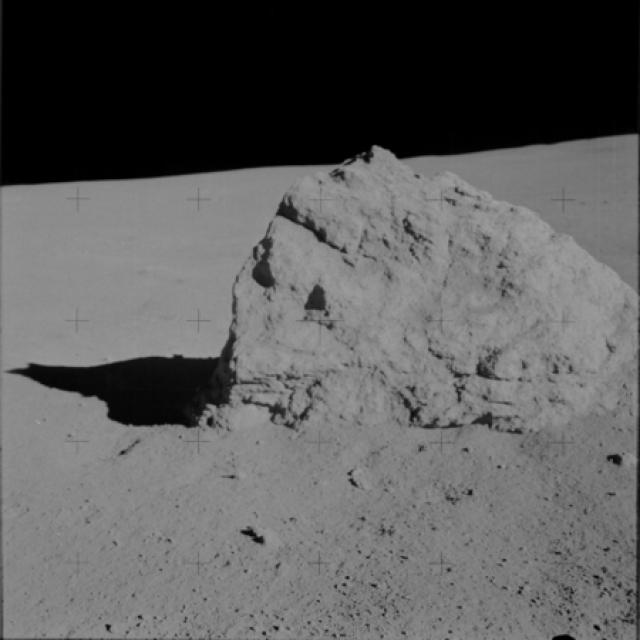rock: (176, 136, 638, 444), (243, 523, 282, 550), (342, 465, 378, 490), (610, 451, 638, 466)
